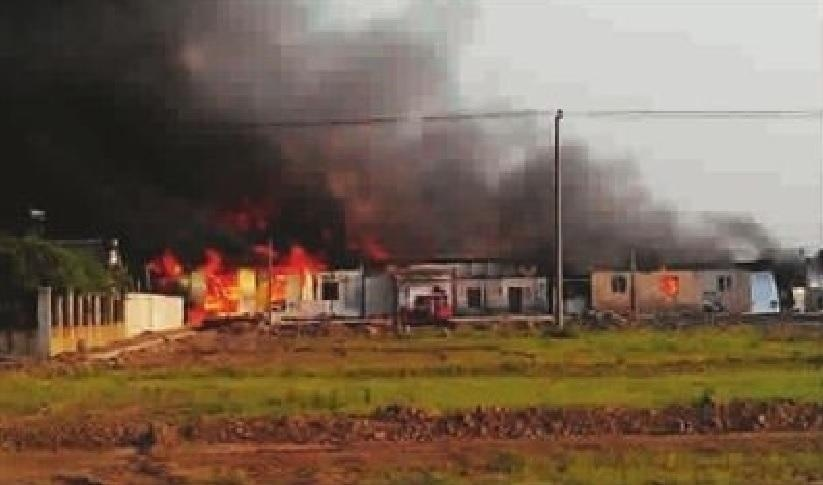fire: (154, 237, 319, 312)
